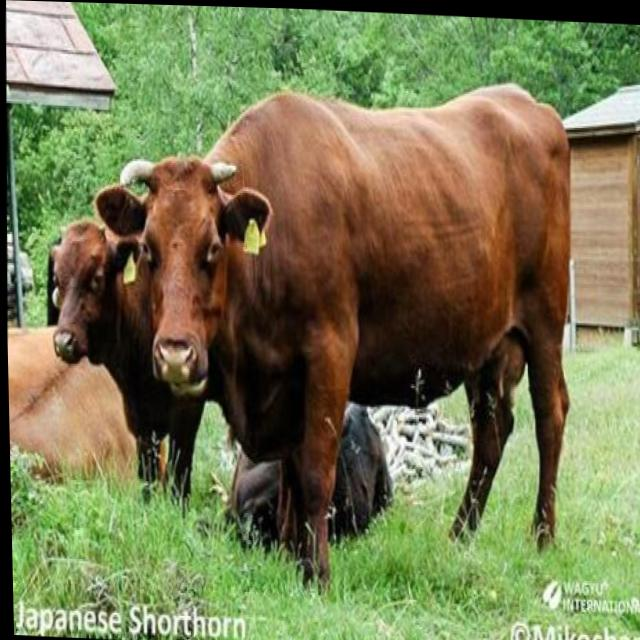cowFace: (104, 106, 271, 414), (40, 208, 128, 390)
